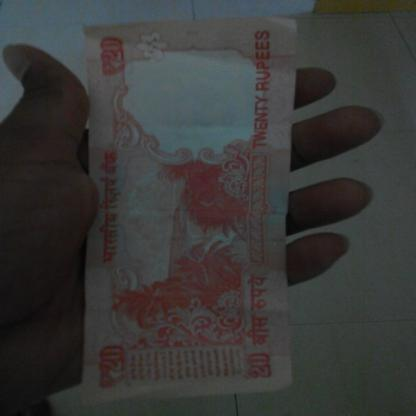Old20Back: (81, 15, 295, 403)
